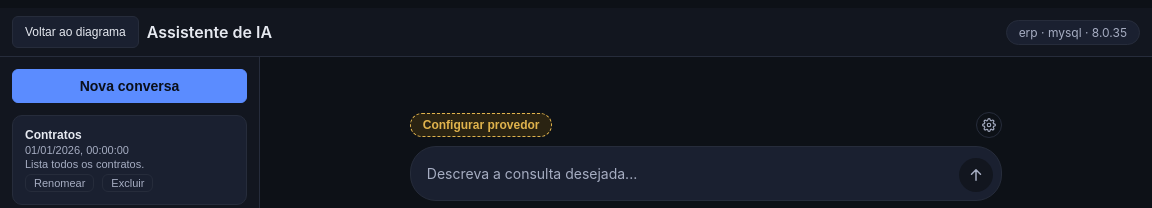
Test case: PaginaDoAssistente › reabrir uma conversa restaura pedidos e cartões completos com SQL copiável (US2)
The width and height of the screenshot is (1152, 208).
(page scrolled)
Click the button "Contratos". click: click(130, 149)
box: [25, 128, 234, 170]
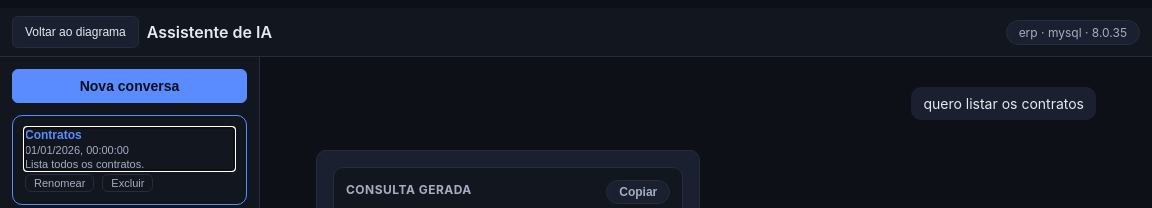
Result: the text "quero listar os contratos" is shown at [911, 87, 1096, 120]
Result: the button with aria-label "Copiar consulta" is shown at [606, 180, 670, 204]
